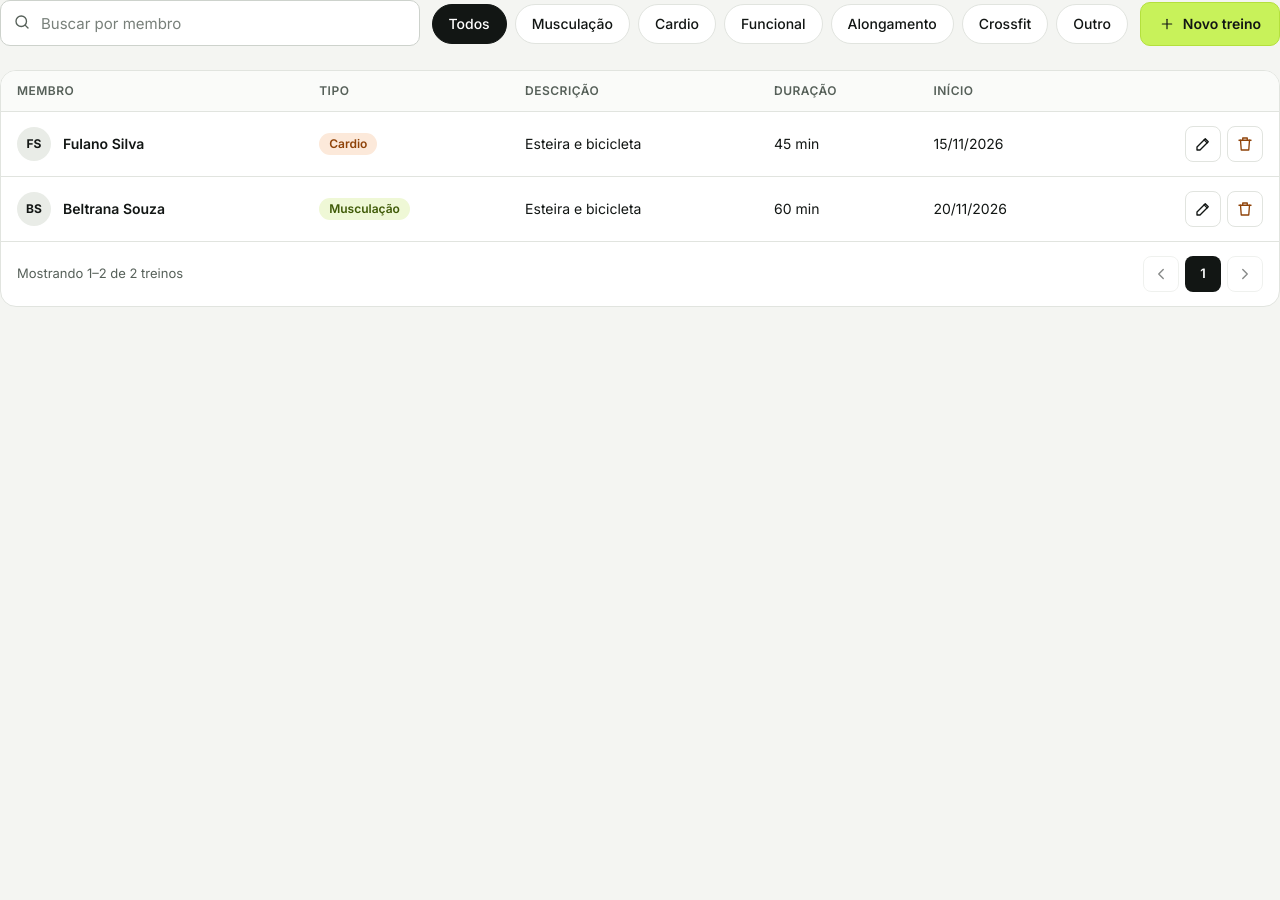
Test: TelaTreinos › criar e editar › abre a edição com os dados do treino, salva e recarrega a lista
Expected: the text "Fulano Silva" is shown, [63,134,144,154]
Click the button named "Editar treino Cardio de Fulano Silva com início em 15/11/2026" at (1203, 144), box [1185,126,1221,162]
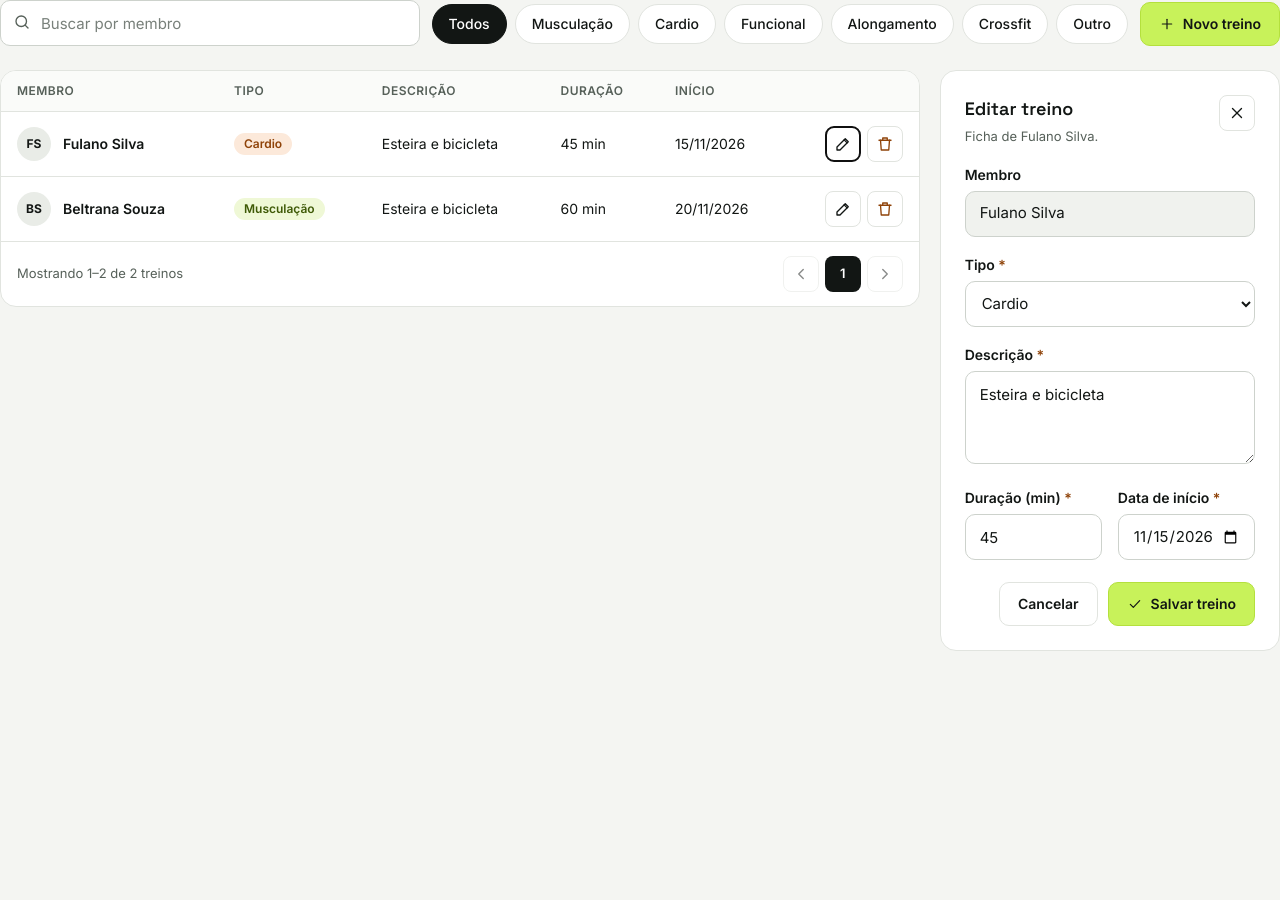
Result: the text box labelled "Descrição" holds "Esteira e bicicleta" at [965,370,1255,464]
Select "Funcional" in the dropdown labelled "Tipo" at (1110, 304), box [965,280,1255,326]
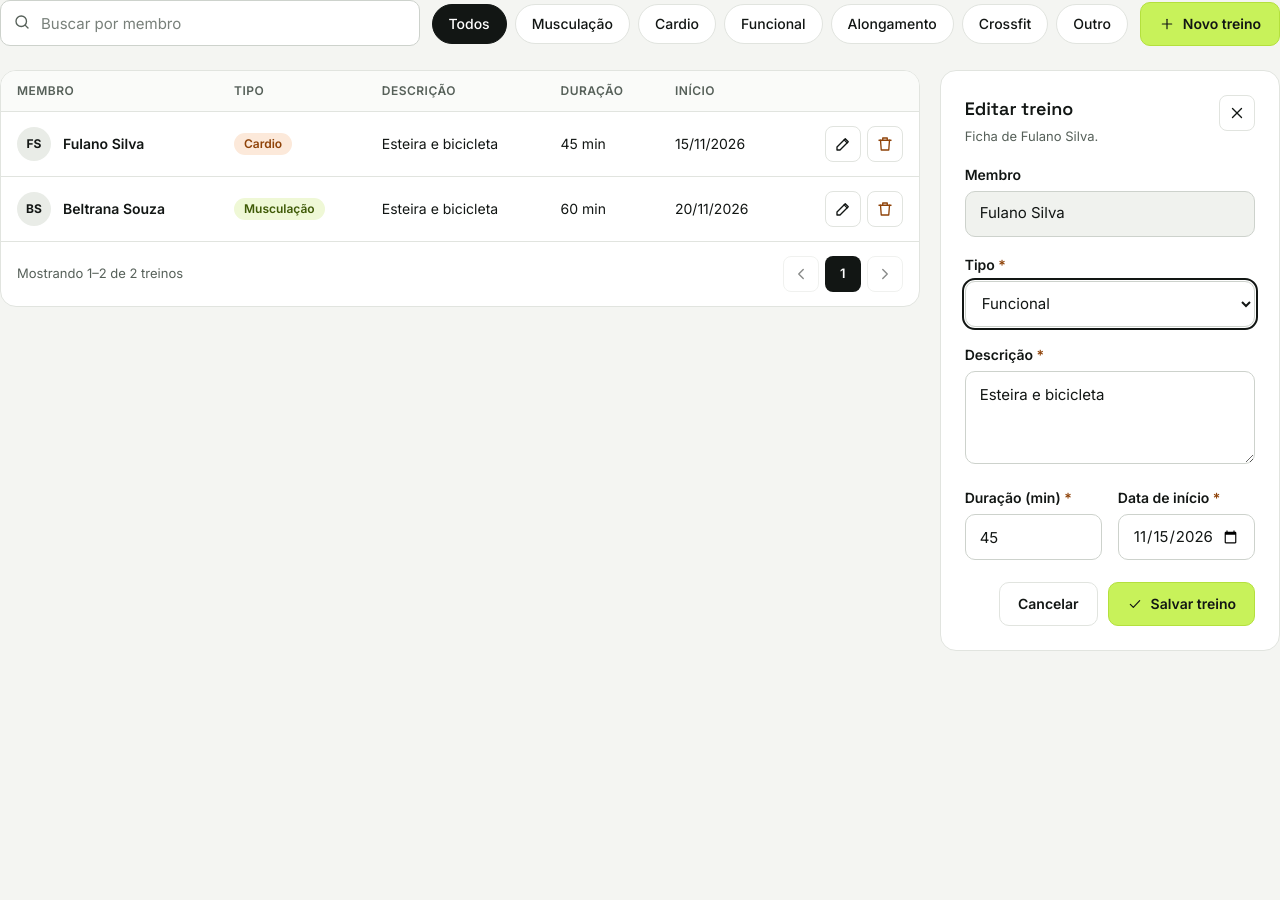
Click the button "Salvar treino" at (1181, 604), box [1108,582,1255,626]
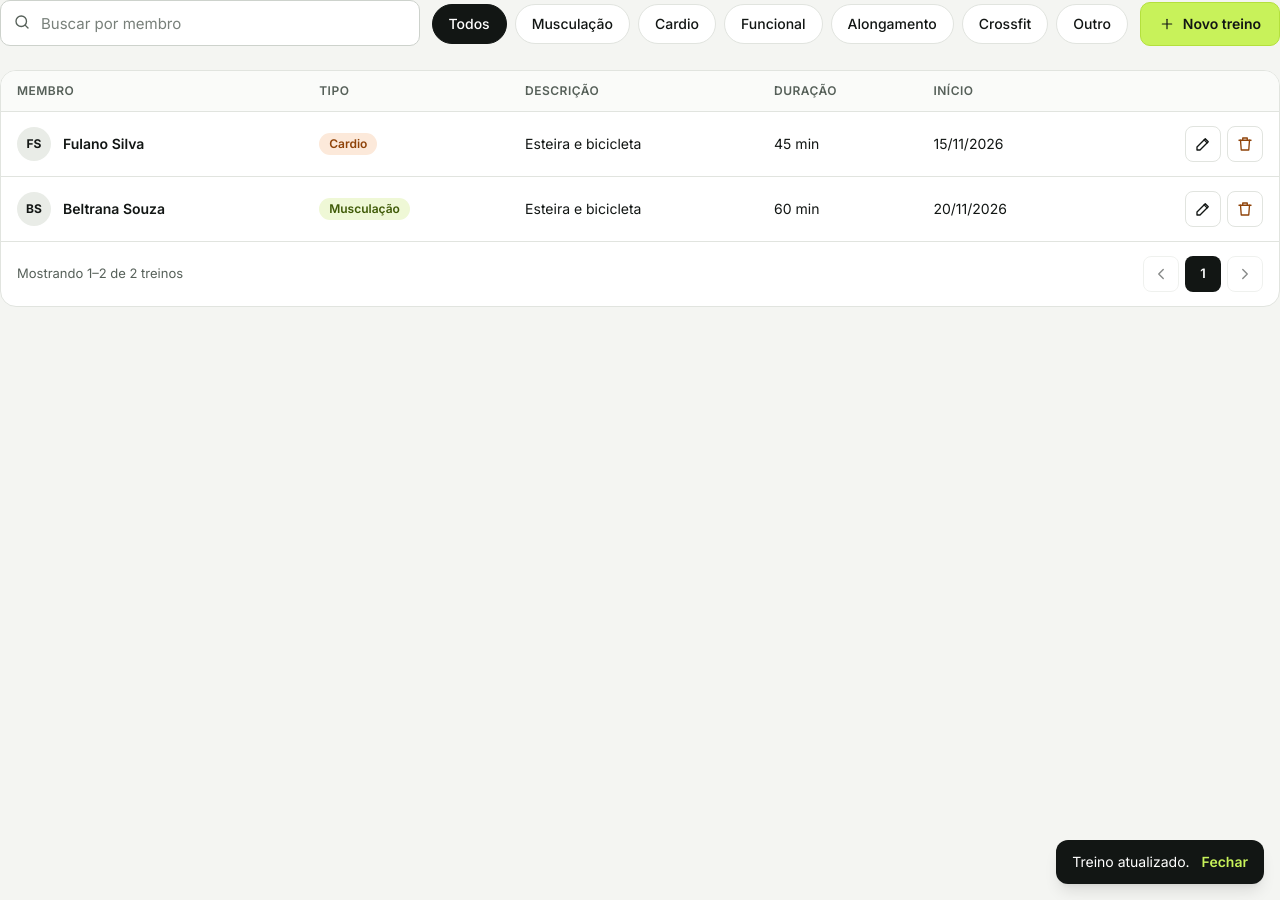
Result: the text "Treino atualizado." is shown at [1072,852,1190,872]
Result: the dialog is gone
